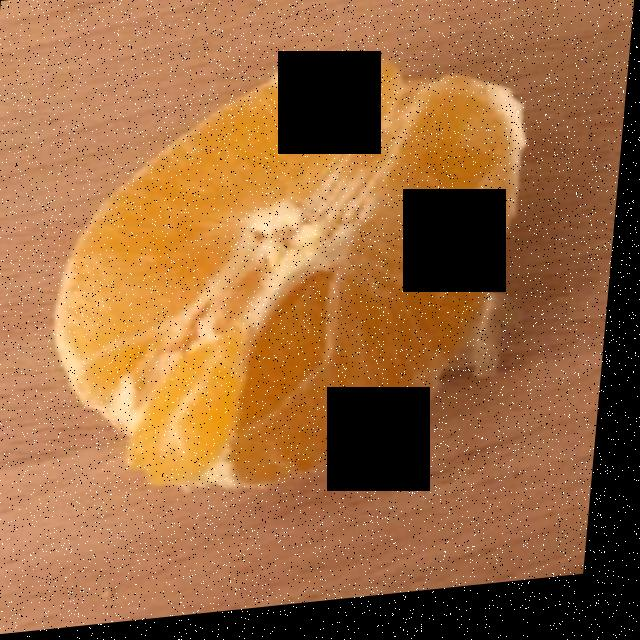orange: (69, 69, 522, 490)
